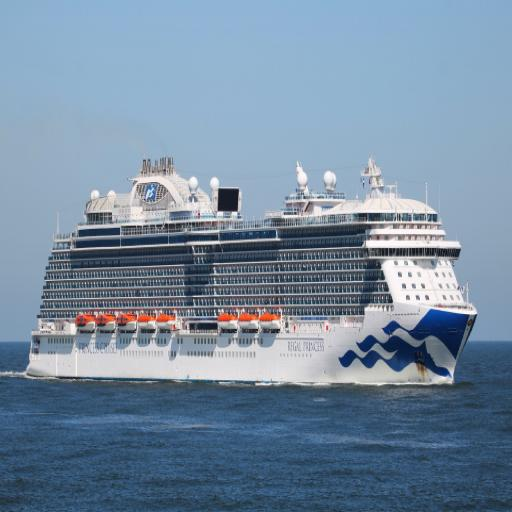cruises: (22, 150, 479, 399)
